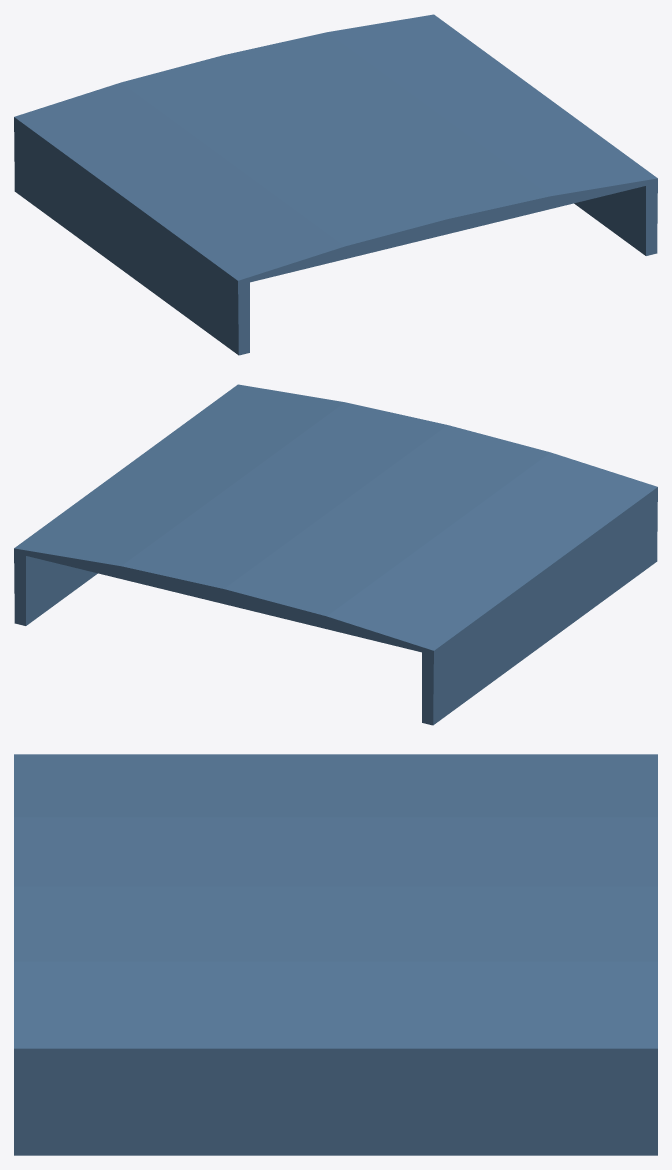
Rendered from Itr_Bed_Double_Blanket_04.FBX.
The picture shows the model from 3 angles, top to bottom: view 1: azimuth 30°, elevation 25°; view 2: azimuth 150°, elevation 25°; view 3: azimuth 270°, elevation 25°; orthographic projection. The views are drawn at different scales.
Visible parts, largest first — view 1: Itr_Bed_Double_Blanket_04; view 2: Itr_Bed_Double_Blanket_04; view 3: Itr_Bed_Double_Blanket_04.
Part boxes in pixels (x1,y1,x2,y2): Itr_Bed_Double_Blanket_04: (14,14,657,355); Itr_Bed_Double_Blanket_04: (14,384,657,725); Itr_Bed_Double_Blanket_04: (14,754,657,1155).
Bounding box in the file's own units: 70.21 × 13.65 × 64.86.
